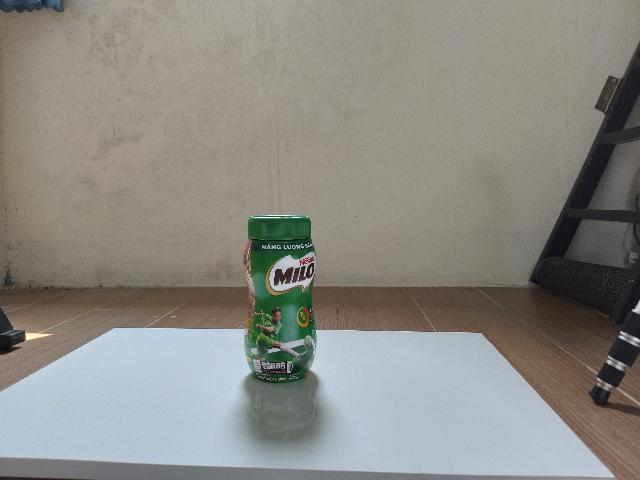milo: (244, 216, 317, 384)
